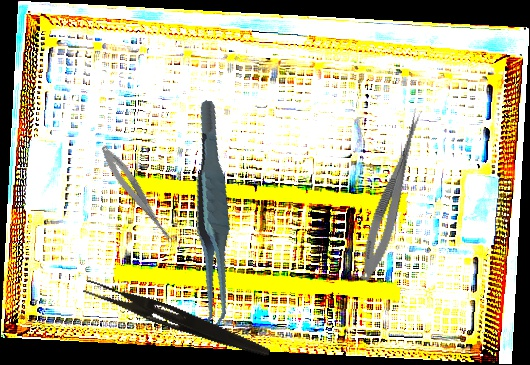Dressing Forceps: (80, 278, 274, 360)
Micro Scissor: (354, 105, 428, 285), (95, 142, 182, 249)
Tissue Forceps: (158, 99, 265, 337)
